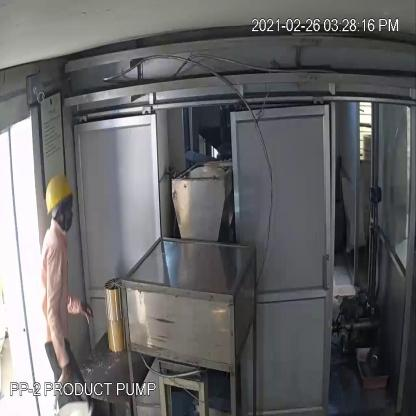helmet: (42, 166, 74, 215)
